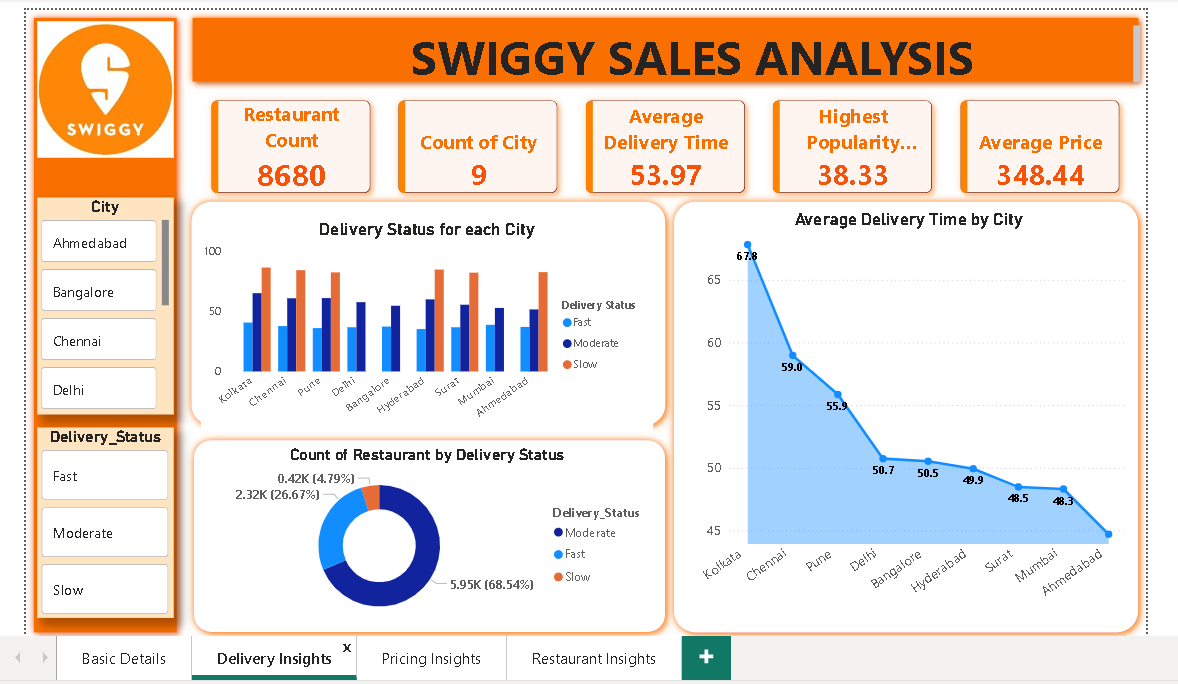

This screenshot's page, from the dashboard's own definition file:
{"tool":"powerbi","page":{"name":"Delivery Insights","canvas":[1280,720],"ordinal":1},"visuals":[{"type":"cardVisual","fields":{"Data":["CountNonNull(public swiggy.Restaurant)","Count(public swiggy.City)","public swiggy.Avg_Del_time","public swiggy.Avg_Pop_Score","public swiggy.Avg_Price"]},"box":[181.3,73.1,1098.8,167],"z":0},{"type":"shape","box":[179.7,209.9,559.7,273.5],"z":1000},{"type":"clusteredColumnChart","title":"Delivery Status for each City","fields":{"Category":["public swiggy.City"],"Series":["public swiggy.Delivery_Status"],"Y":["Avg(public swiggy.Delivery_Time)"]},"box":[200.4,240.1,516.8,243.3],"z":2000},{"type":"shape","box":[182.9,483.4,556.5,236.9],"z":3000},{"type":"shape","box":[181.3,0,1098.8,90.6],"z":4000},{"type":"textbox","box":[181.3,12.7,1097.2,77.9],"z":5000},{"type":"shape","box":[0,0,181.3,720.3],"z":6000},{"type":"donutChart","title":"Count of Restaurant by Delivery Status","fields":{"Y":["CountNonNull(public swiggy.Restaurant)"],"Category":["public swiggy.Delivery_Status"]},"box":[200.4,497.7,516.8,209.9],"z":7000},{"type":"image","box":[12.7,12.7,155.8,155.8],"z":8000},{"type":"shape","box":[731.5,209.9,548.6,510.4],"z":9000},{"type":"stackedAreaChart","title":"Average Delivery Time by City","fields":{"Category":["public swiggy.City"],"Y":["public swiggy.Avg_Del_time"]},"box":[753.7,229,508.8,465.9],"z":10000},{"type":"advancedSlicerVisual","fields":{"Values":["public swiggy.City"]},"box":[12.7,214.7,155.8,248.1],"z":11000},{"type":"advancedSlicerVisual","fields":{"Values":["public swiggy.Delivery_Status"]},"box":[12.7,477,155.8,217.8],"z":12000}]}

Visuals, with their boxes on the page's 1280x720 design canvas (x1, y1, x2, y2). These are canvas units, not pixel positions in the 1178x684 screenshot, which may show the page scaled, cropped or inside an application window:
cardVisual - CountNonNull(public swiggy.Restaurant) x Count(public swiggy.City): pyautogui.locateOnScreen(181, 73, 1280, 240)
shape: pyautogui.locateOnScreen(180, 210, 739, 483)
"Delivery Status for each City" clusteredColumnChart: pyautogui.locateOnScreen(200, 240, 717, 483)
shape: pyautogui.locateOnScreen(183, 483, 739, 720)
shape: pyautogui.locateOnScreen(181, 0, 1280, 91)
textbox: pyautogui.locateOnScreen(181, 13, 1278, 91)
shape: pyautogui.locateOnScreen(0, 0, 181, 720)
"Count of Restaurant by Delivery Status" donutChart: pyautogui.locateOnScreen(200, 498, 717, 708)
image: pyautogui.locateOnScreen(13, 13, 168, 168)
shape: pyautogui.locateOnScreen(732, 210, 1280, 720)
"Average Delivery Time by City" stackedAreaChart: pyautogui.locateOnScreen(754, 229, 1262, 695)
advancedSlicerVisual - public swiggy.City: pyautogui.locateOnScreen(13, 215, 168, 463)
advancedSlicerVisual - public swiggy.Delivery_Status: pyautogui.locateOnScreen(13, 477, 168, 695)
